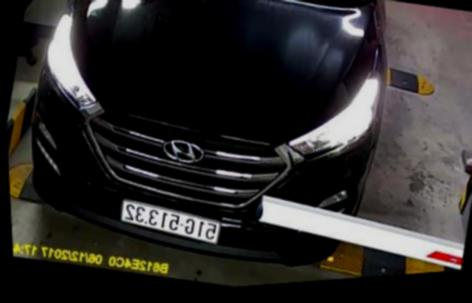License_Plate: (116, 175, 233, 254)
